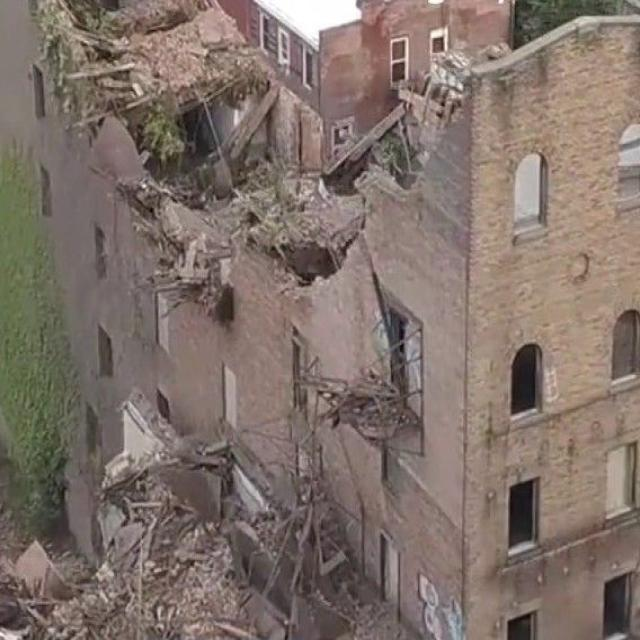collapsed_building: (31, 0, 639, 639)
